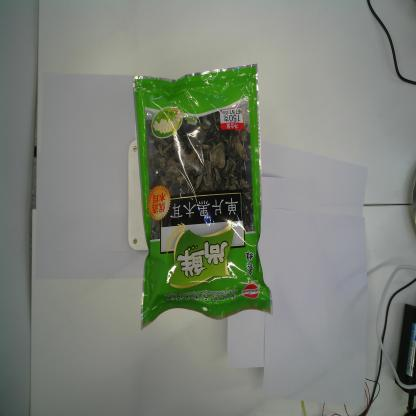Dried Food: (130, 61, 276, 332)
